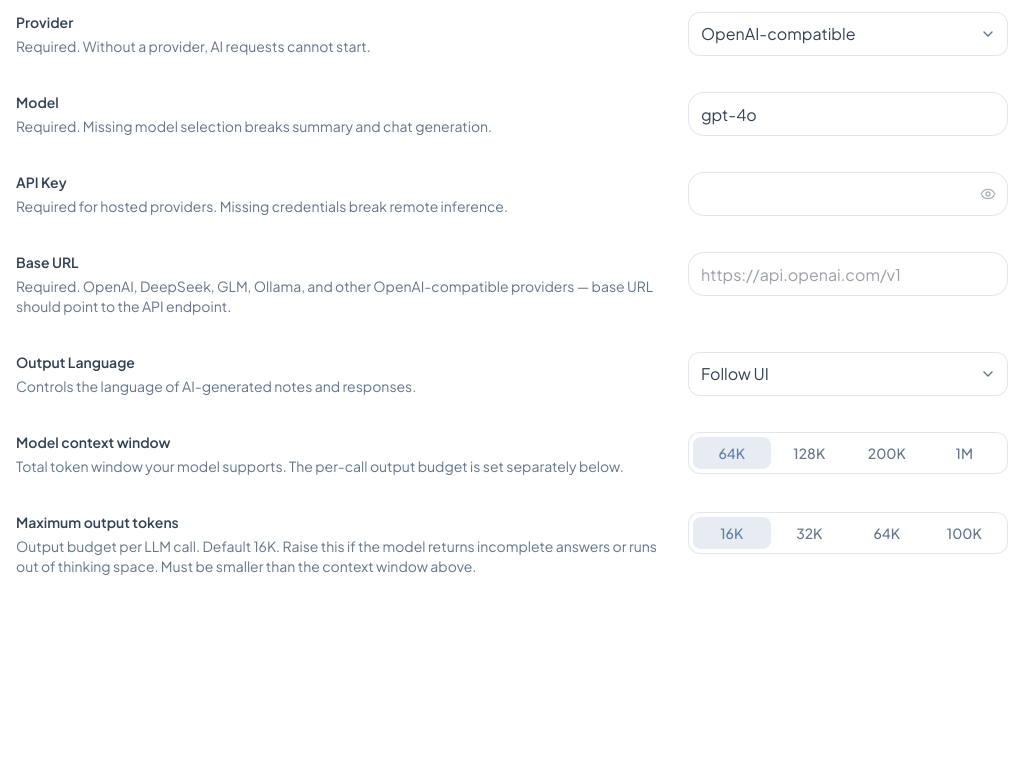
Test case: llm tab › does not commit a selection that makes the budget invalid
Step 1. Click the radio button named "100K" → click(964, 533), box [926,517,1003,549]
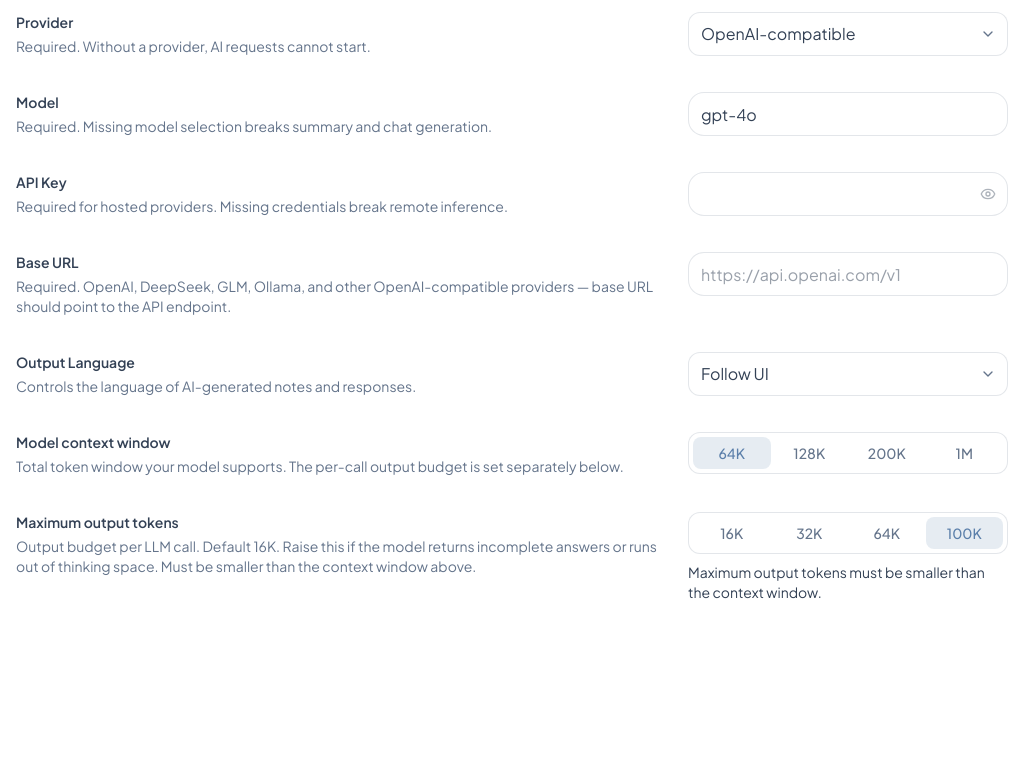
Expected: the message shows "smaller than the context window", [688,563,985,601]
